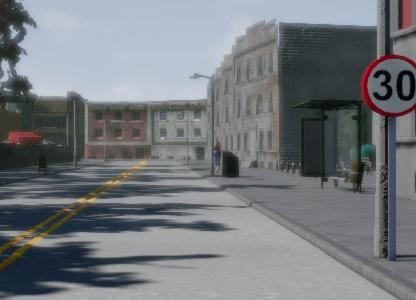Speed_30: (362, 48, 416, 128)
